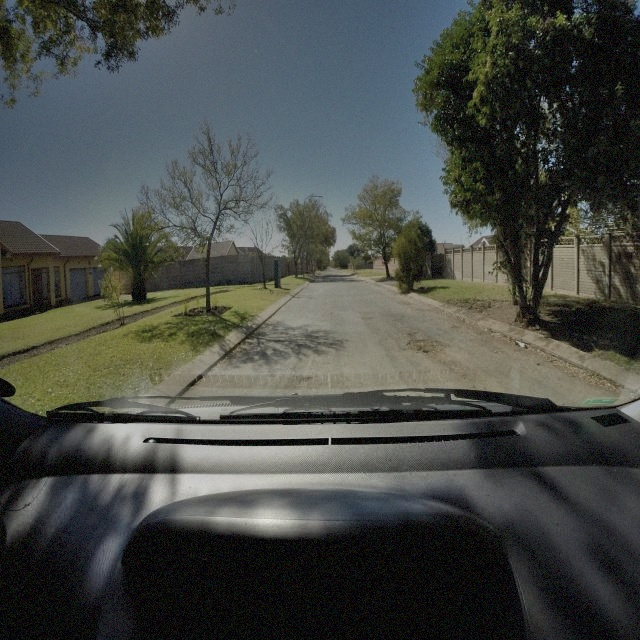pothole: (406, 336, 448, 358), (361, 316, 373, 322), (326, 311, 334, 318)
